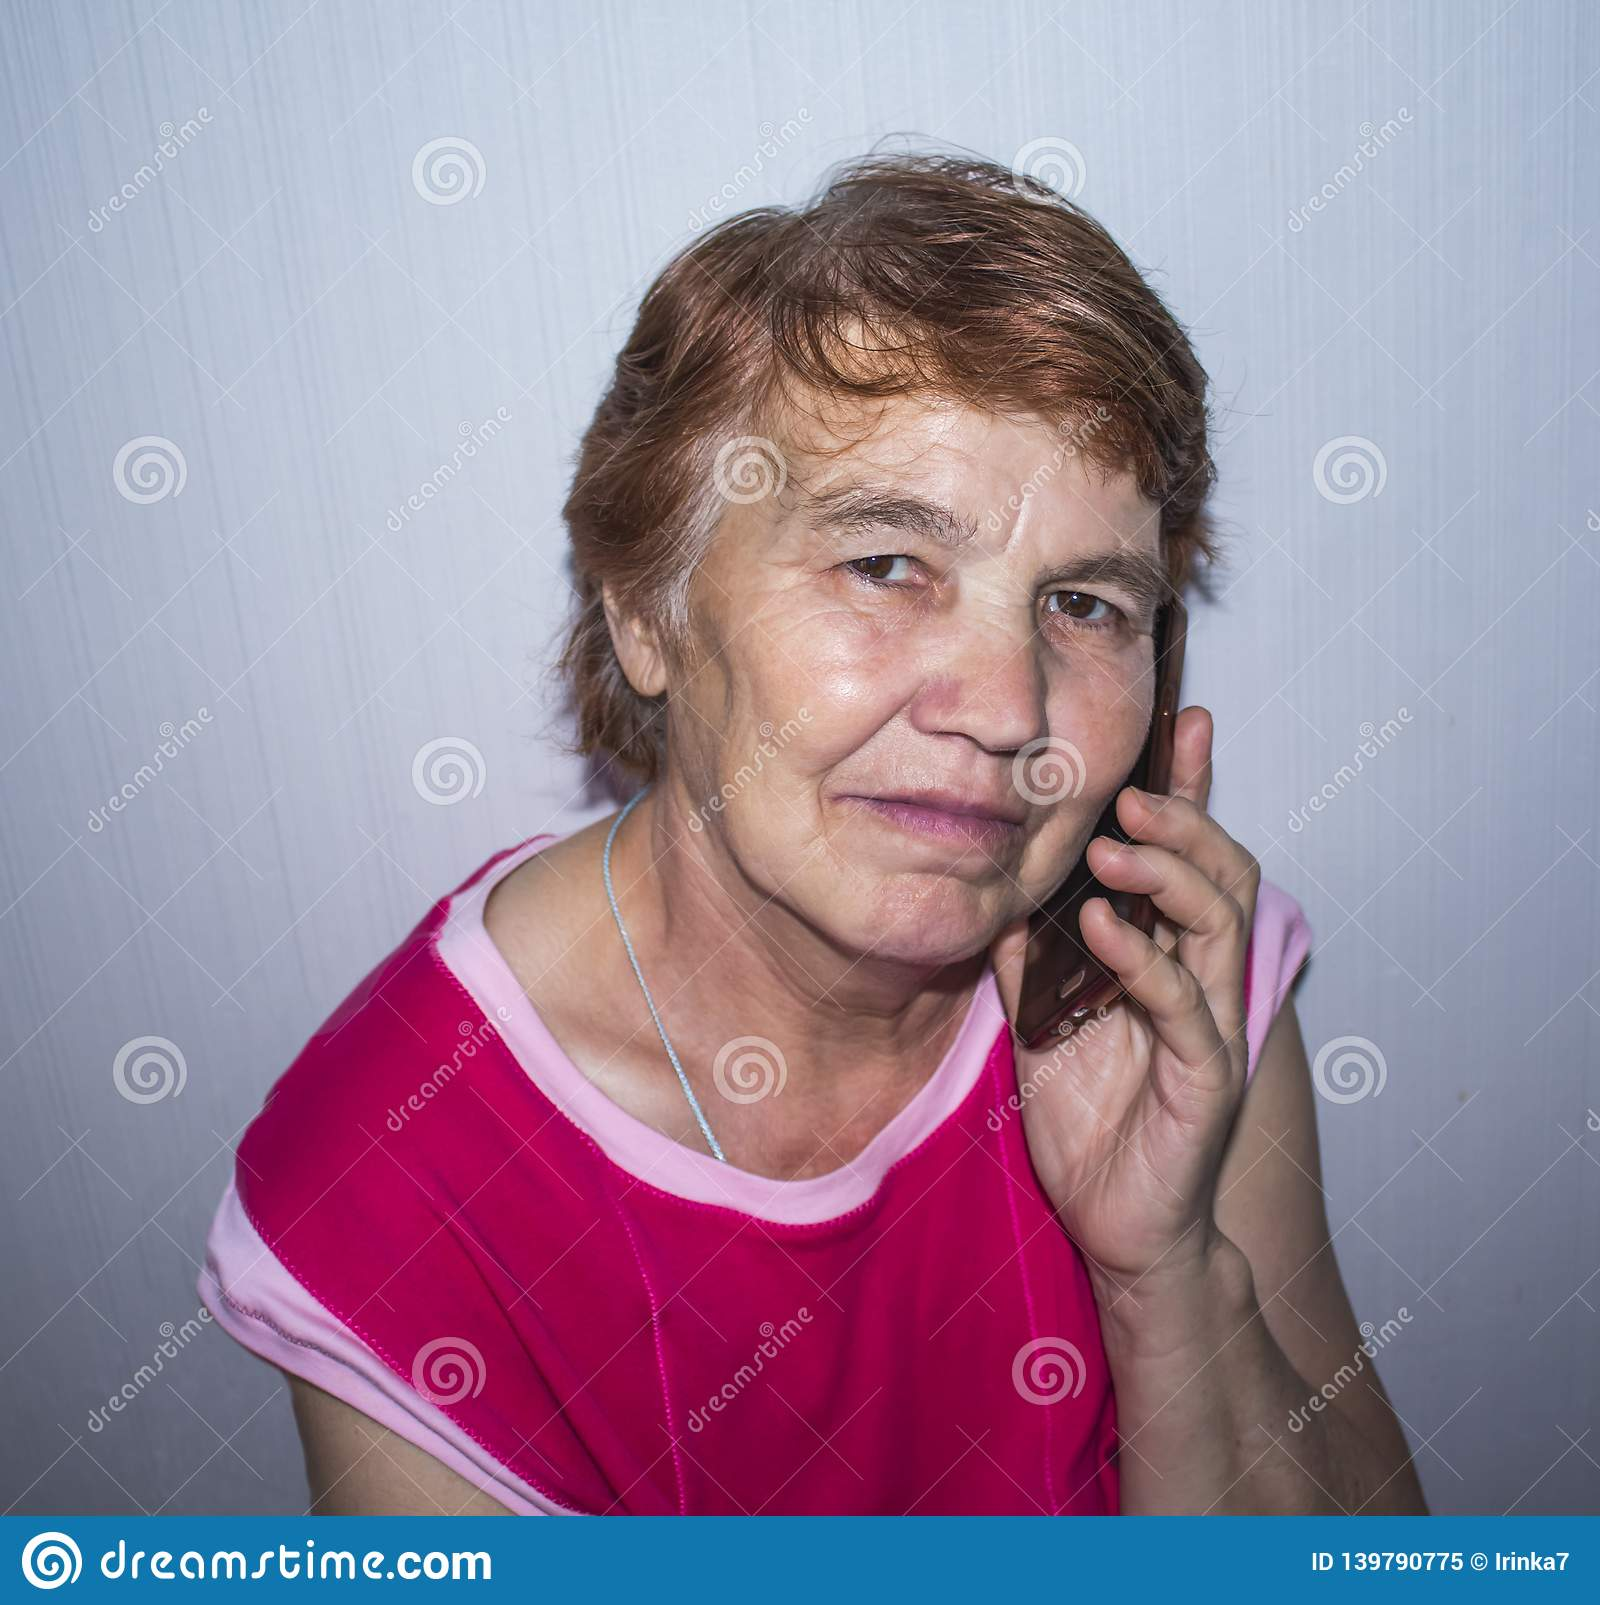phone: (1020, 594, 1191, 1063)
talk: (714, 478, 1264, 1268)
